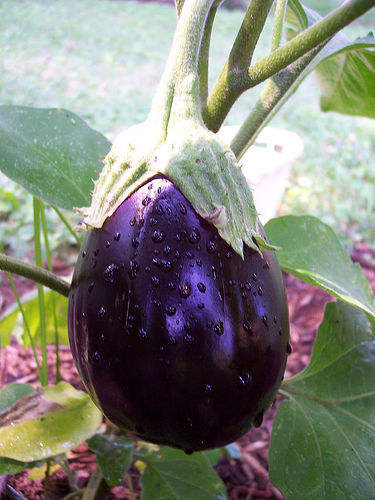eggplant: (67, 113, 294, 451)
